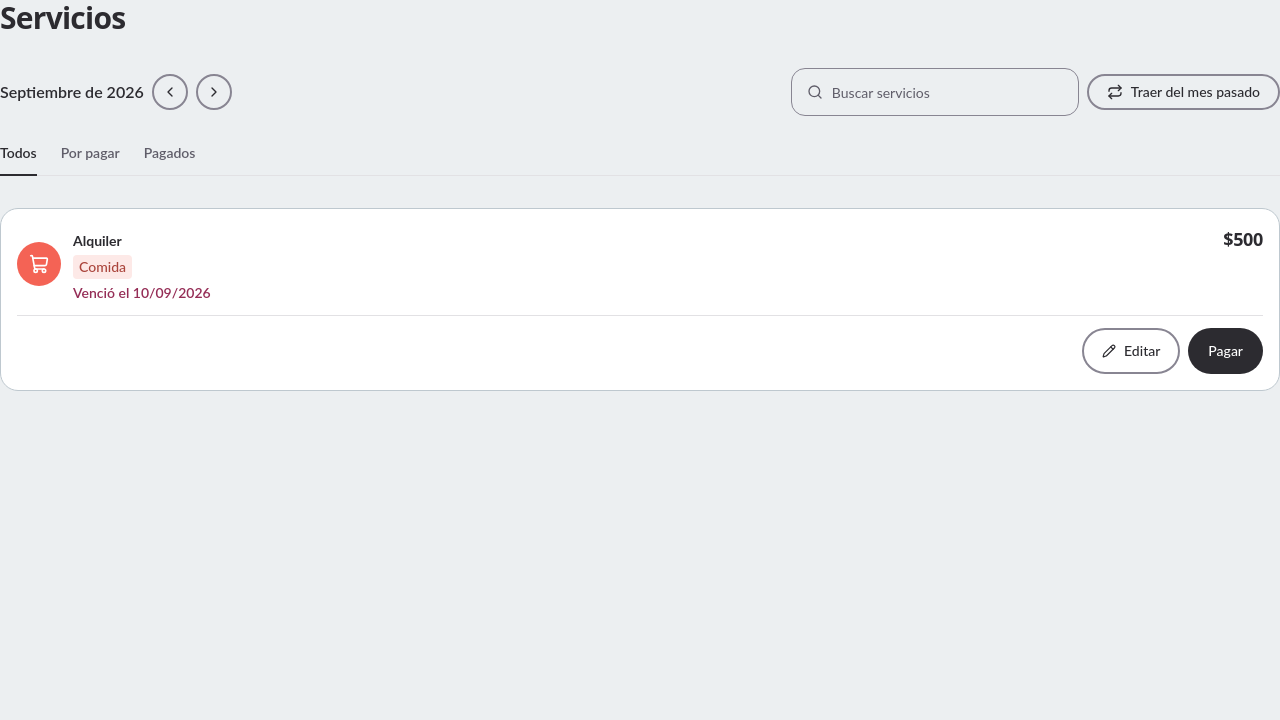
Scenario: PendientesPage › attributes a paid pendiente's expense using the member's own chosen display name, not their Auth profile name
Click the button with aria-label "Marcar pagado Alquiler": (1226, 351) [1188,328,1263,374]
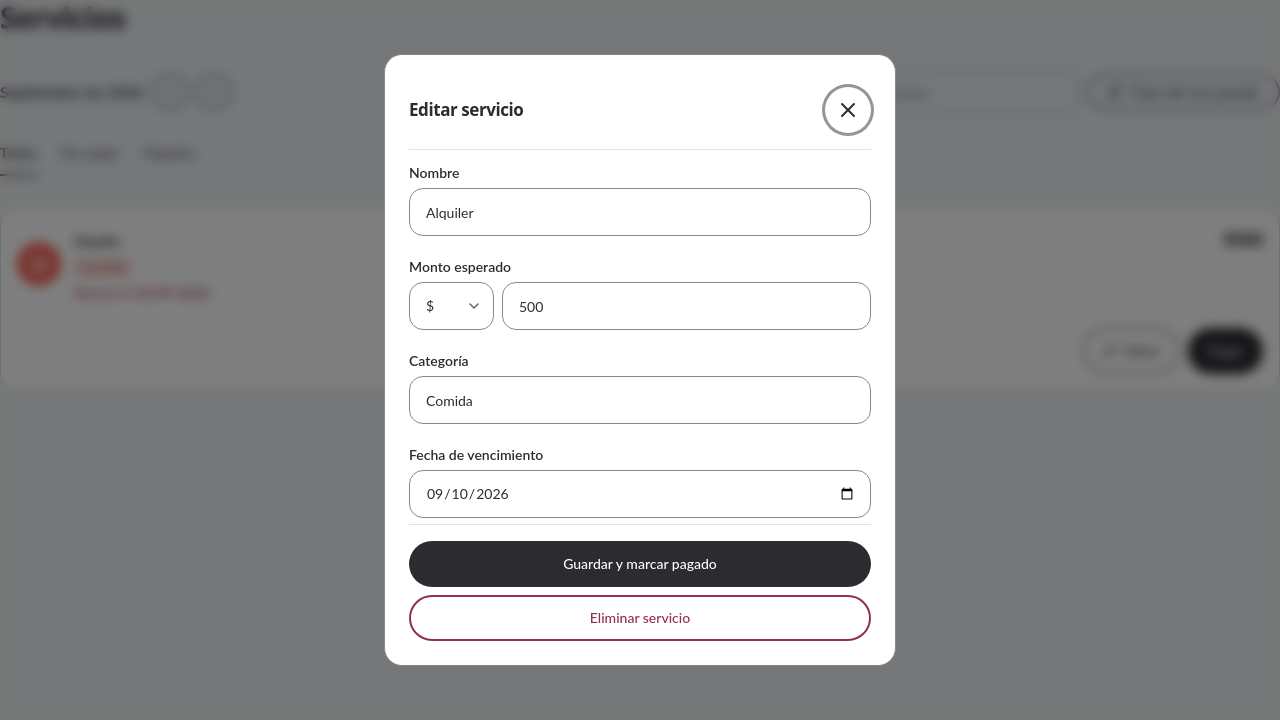
Now the field labelled "Monto esperado" is shown, box [502,282,871,330]
Click the button "Guardar y marcar pagado": (640, 564) [409,541,871,587]
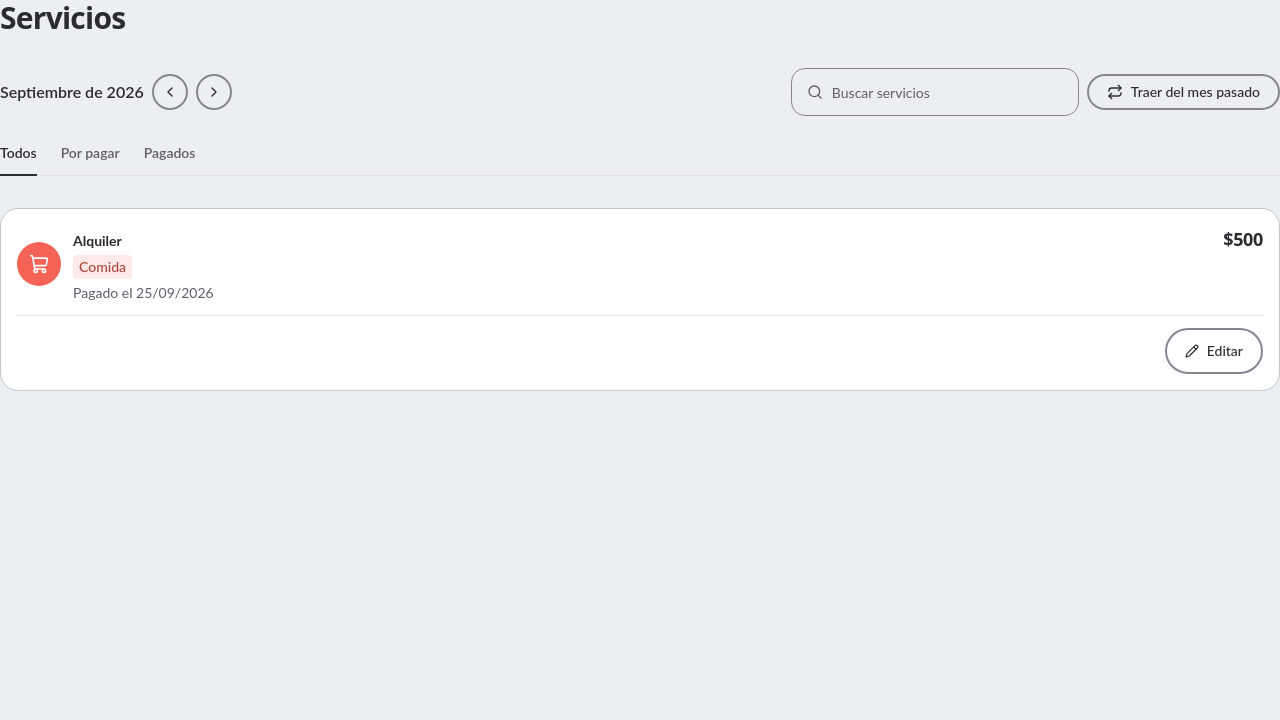
Now the list item "Alquiler" shows "Pagado", box [73,284,214,301]
